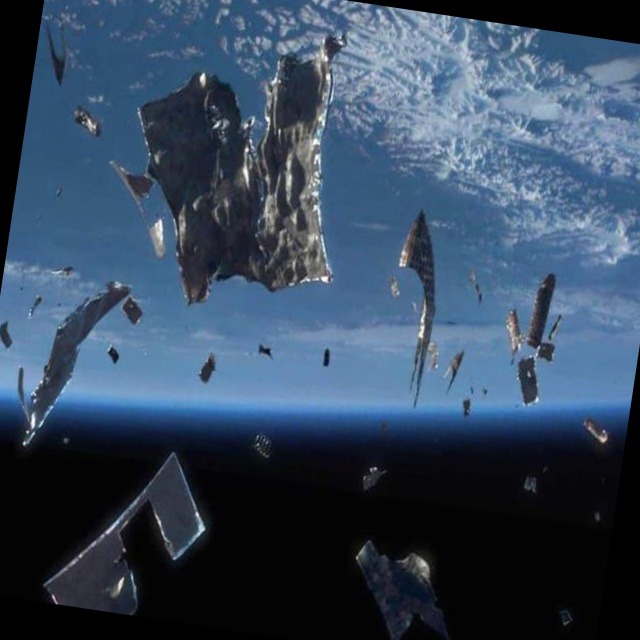large_debris: (27, 285, 45, 325), (101, 342, 122, 371), (49, 259, 74, 283), (424, 339, 441, 372), (590, 510, 601, 526), (51, 186, 63, 199)
